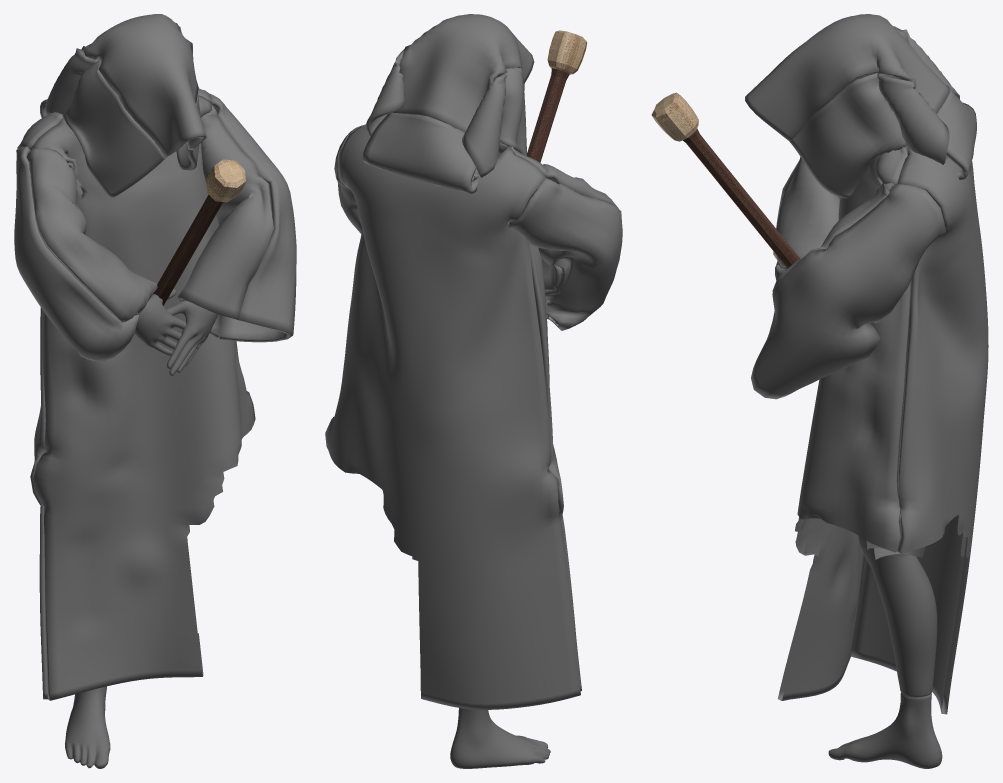
The model's file is statue_1.fbx.
The picture shows the model from 3 angles, left to right: view 1: azimuth 30°, elevation 25°; view 2: azimuth 150°, elevation 25°; view 3: azimuth 270°, elevation 25°; orthographic projection. The views are drawn at different scales.
Parts seen in each view (by area): view 1: Plane.004, Ch36.004, Cube.010; view 2: Plane.004, Ch36.004, Cube.010; view 3: Plane.004, Ch36.004, Cube.010.
Part boxes in pixels (bbox=[...]): Plane.004: bbox=[14, 14, 296, 700]; Ch36.004: bbox=[27, 151, 218, 768]; Cube.010: bbox=[153, 159, 245, 305]; Plane.004: bbox=[325, 14, 622, 709]; Ch36.004: bbox=[450, 708, 550, 768]; Cube.010: bbox=[527, 30, 587, 162]; Plane.004: bbox=[745, 14, 988, 714]; Ch36.004: bbox=[827, 78, 942, 768]; Cube.010: bbox=[651, 92, 800, 268].
Bounding box in the file's own units: 265 × 695 × 277.
